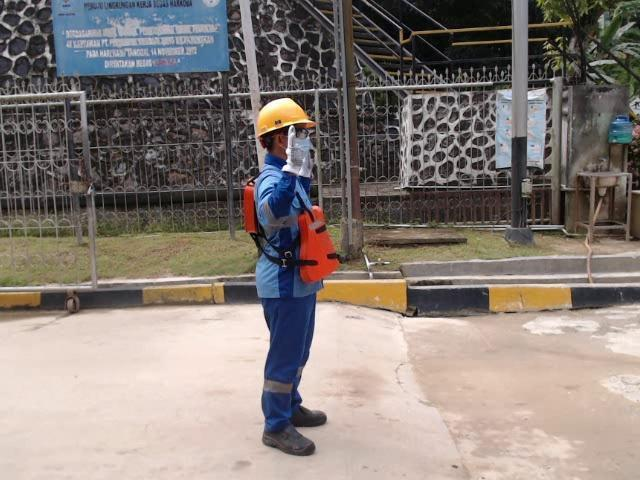vest: (243, 176, 340, 284)
